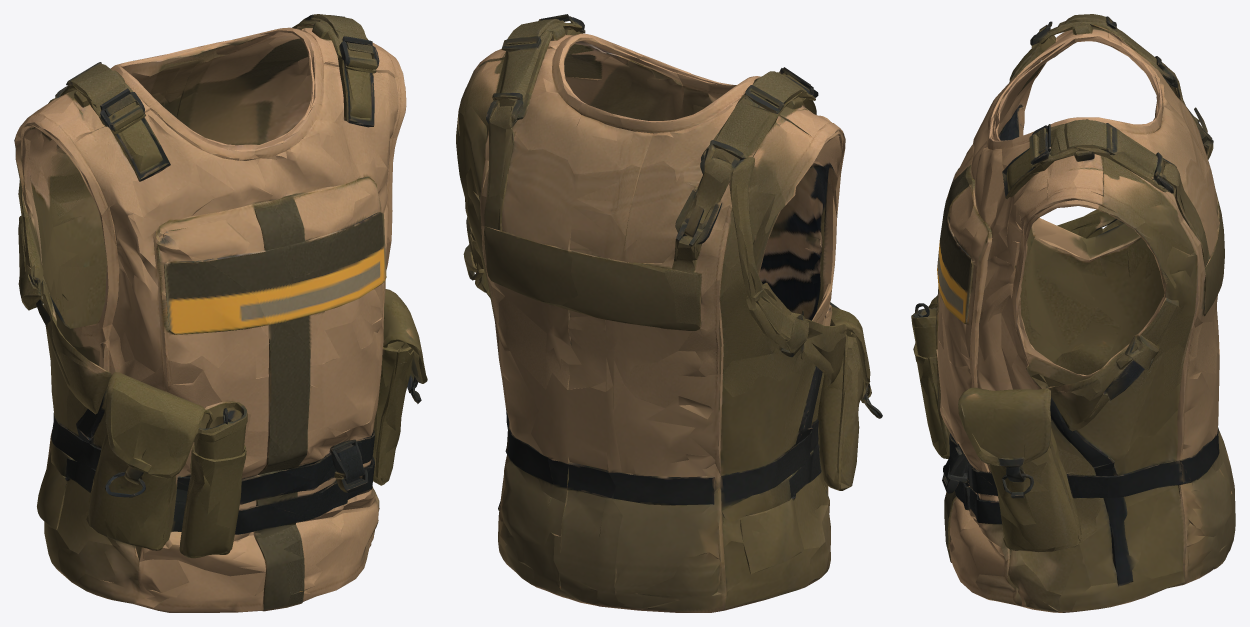
File: WardenPlateCarrier.glb
3 renders of one model, left to right at view 1: azimuth 30°, elevation 25°; view 2: azimuth 150°, elevation 25°; view 3: azimuth 270°, elevation 25°, orthographic. The views are drawn at different scales.
Size of the model in its own units: 1.36 by 1.9 by 1.14.
1 material, 1 textured.
